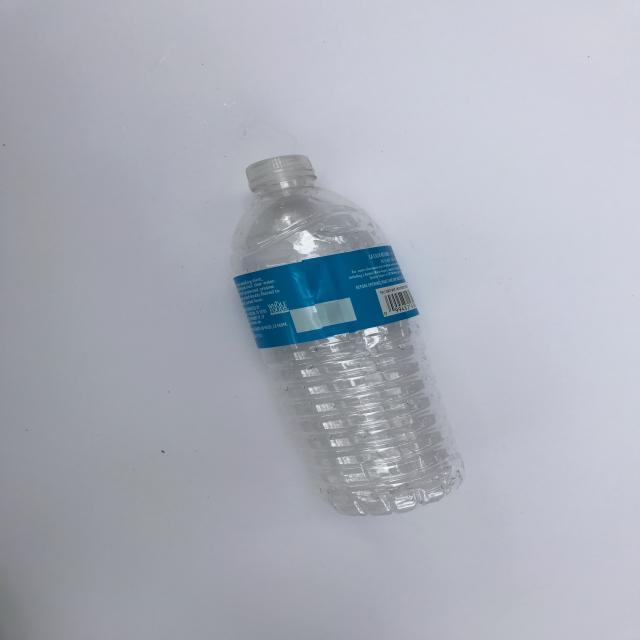plastic: (225, 148, 480, 524)
